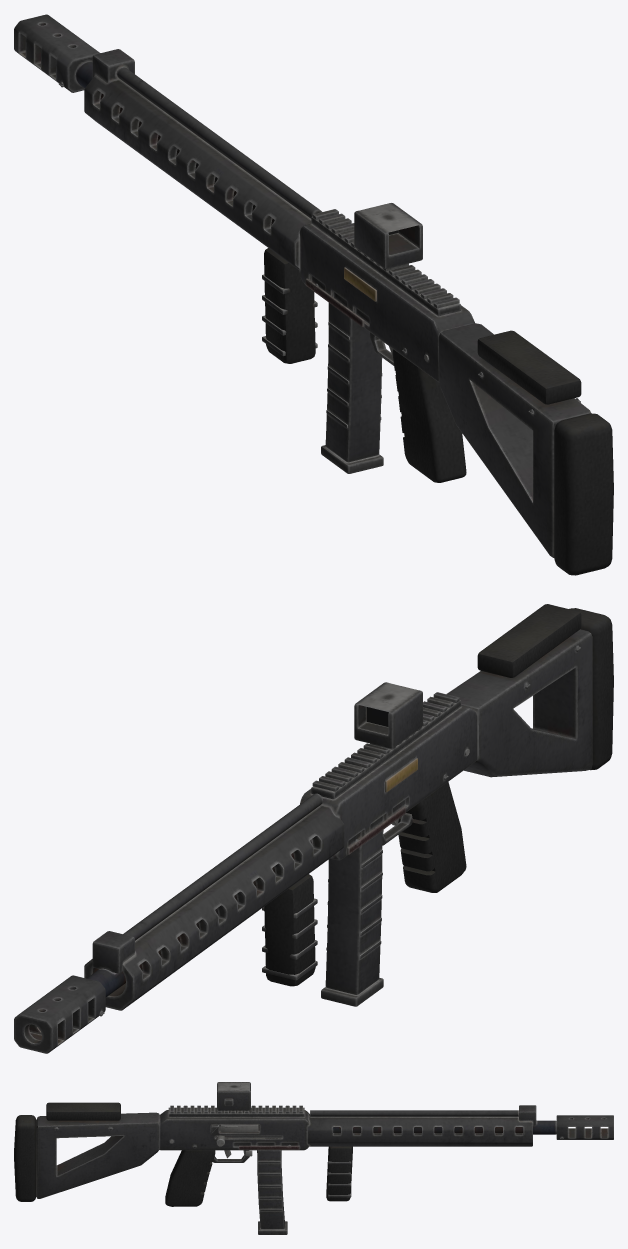
File: candidate_auto_rifle.glb
The picture shows the model from 3 angles, top to bottom: view 1: azimuth 30°, elevation 25°; view 2: azimuth 150°, elevation 25°; view 3: azimuth 270°, elevation 25°; orthographic projection. The views are drawn at different scales.
Visible parts, largest first — view 1: candidate_auto_rifle; view 2: candidate_auto_rifle; view 3: candidate_auto_rifle.
Boxes of the visible parts, x1,y1,x2,y2 form: candidate_auto_rifle: [14, 14, 613, 575]; candidate_auto_rifle: [14, 604, 613, 1053]; candidate_auto_rifle: [14, 1082, 613, 1234].
Bounding box in the file's own units: 0.078 × 0.3055 × 1.15.
1 material, 1 textured.
